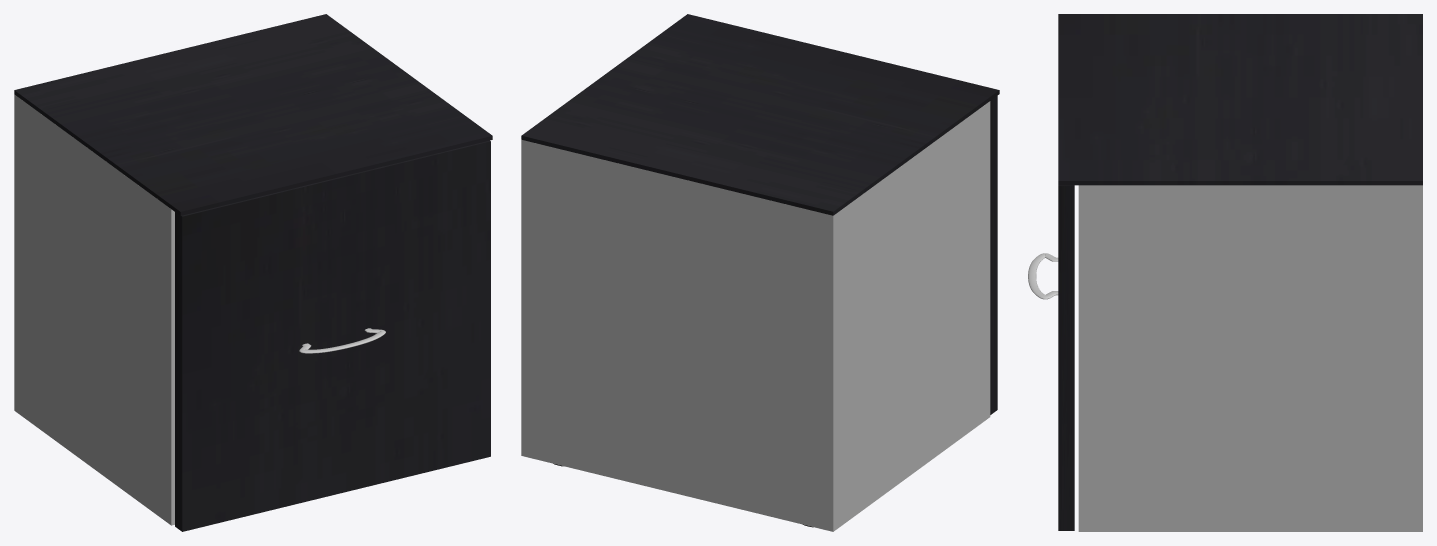
Rendered from sh-lp-mobile45160-w.glb.
3 renders of one model, left to right at view 1: azimuth 30°, elevation 25°; view 2: azimuth 150°, elevation 25°; view 3: azimuth 270°, elevation 25°, orthographic. The views are drawn at different scales.
Parts seen in each view (by area): view 1: Box56_2, Line42_1; view 2: Line42_1, Box56_2; view 3: Line42_1, Box56_2.
Boxes of the visible parts, x1,y1,x2,y2 form: Box56_2: (14, 14, 492, 531); Line42_1: (14, 94, 385, 525); Line42_1: (521, 101, 990, 531); Box56_2: (521, 14, 999, 414); Line42_1: (1028, 185, 1422, 531); Box56_2: (1058, 14, 1422, 530).
Bounding box in the file's own units: 1 × 1 × 1.
3 materials, 1 textured.
